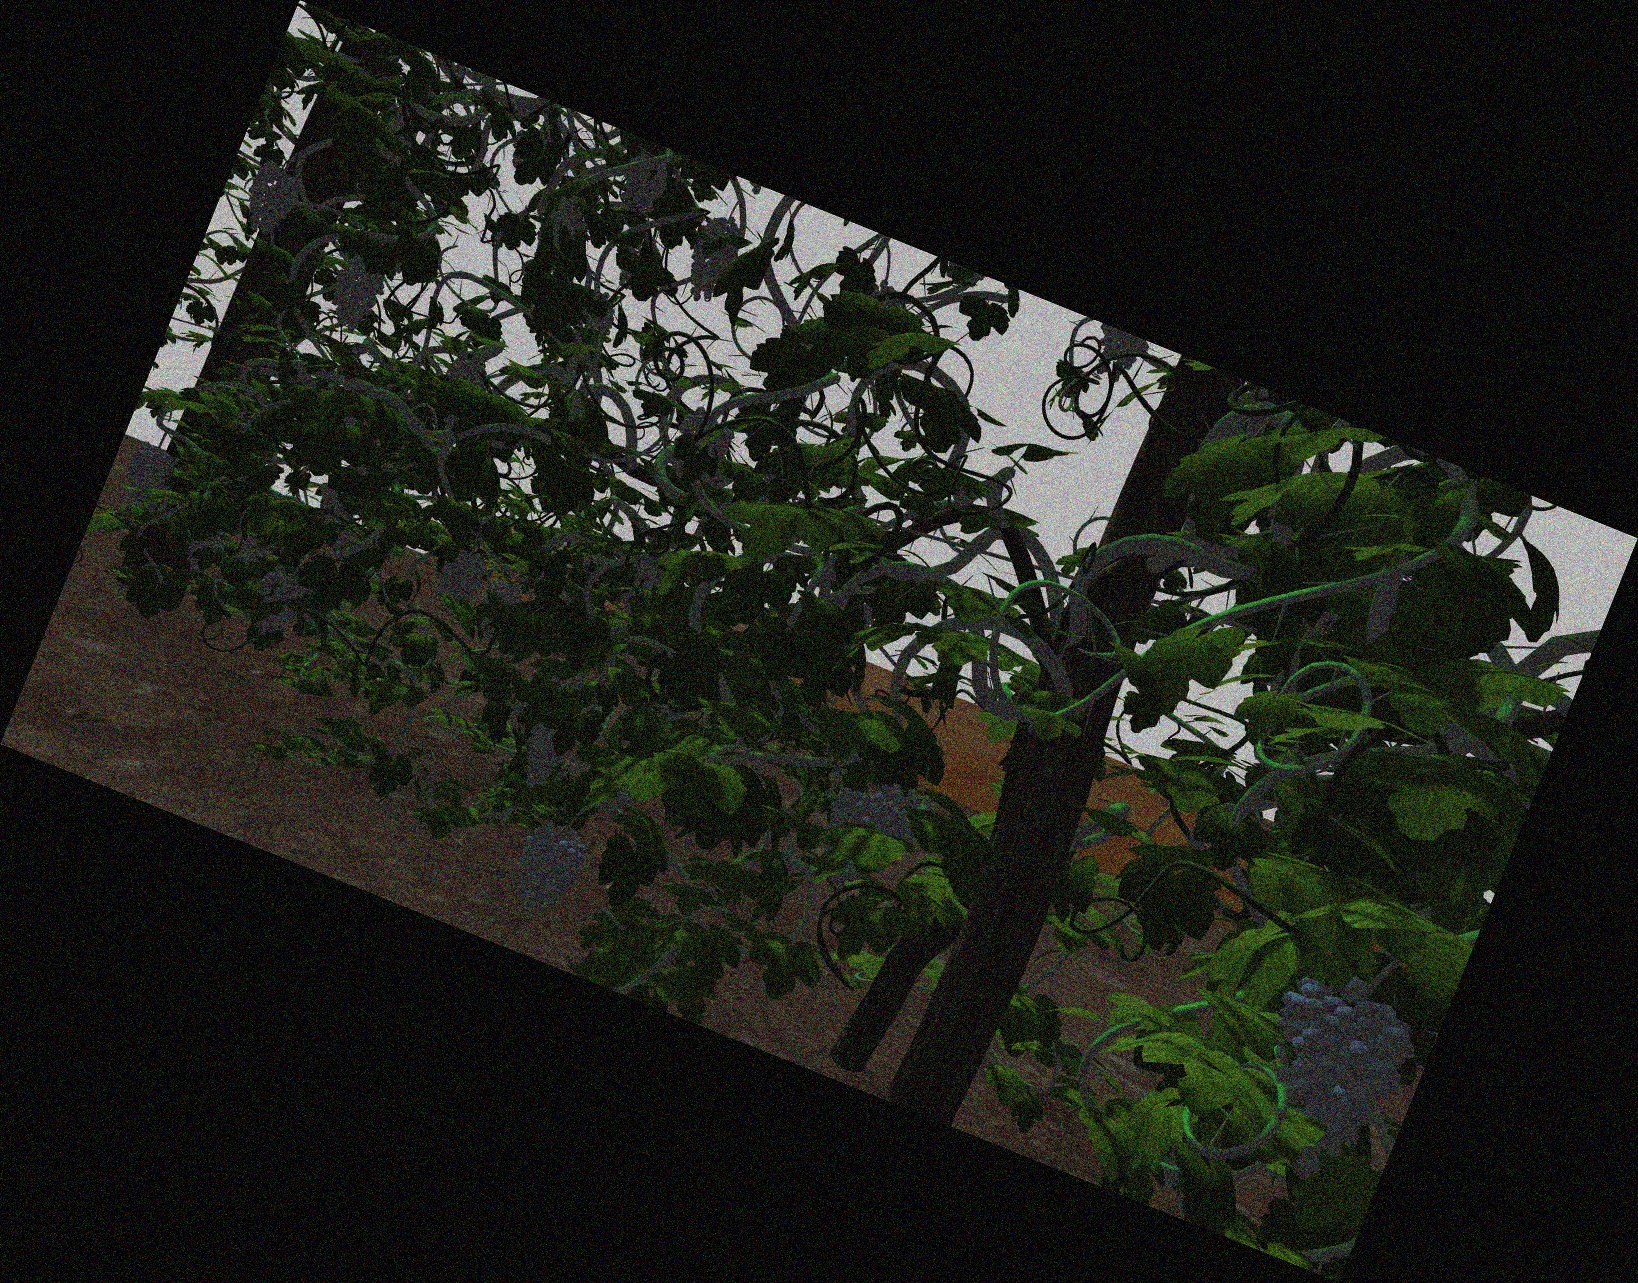grape: (1260, 977, 1393, 1177), (517, 822, 580, 921), (834, 778, 921, 836), (690, 215, 737, 299), (331, 261, 382, 328), (247, 168, 296, 234), (519, 722, 566, 787), (624, 156, 663, 215), (128, 444, 172, 491), (443, 550, 483, 600), (261, 569, 308, 608), (491, 578, 523, 604)
